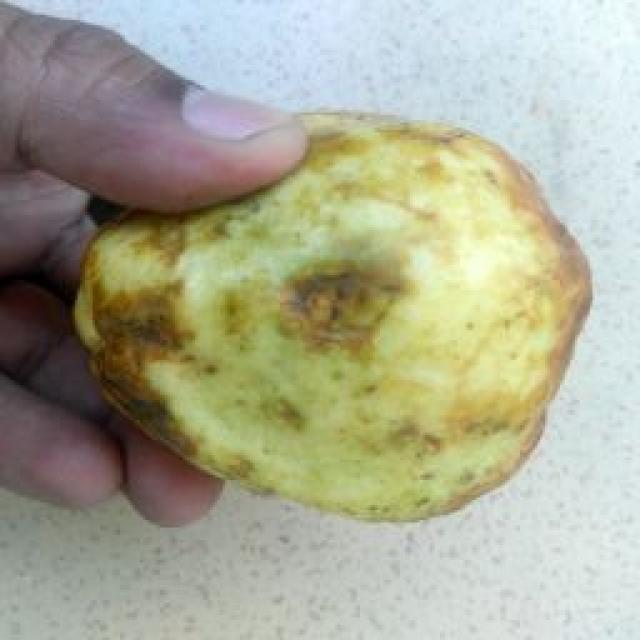Bad_Guava: (75, 115, 590, 519)
